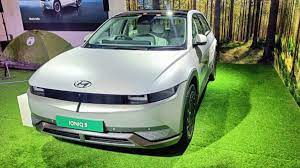Honda Ioniq: (16, 6, 231, 158)
